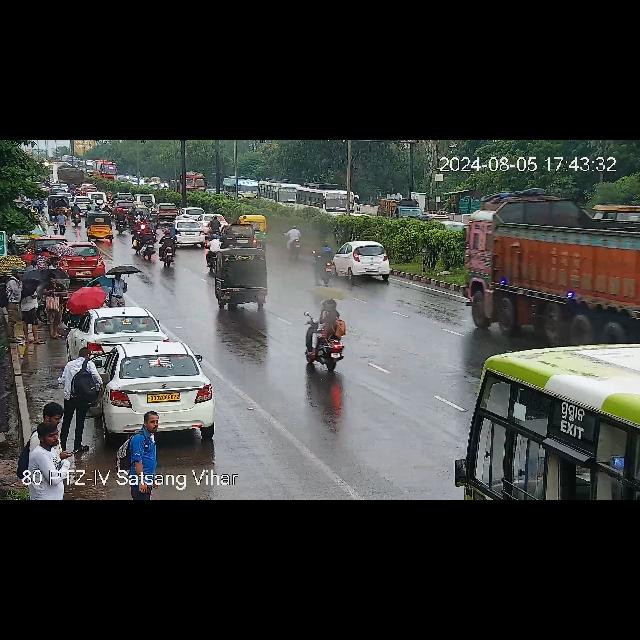bus: (454, 336, 640, 500), (291, 189, 357, 217), (256, 178, 302, 204), (219, 178, 261, 202)
car: (78, 342, 218, 436), (80, 306, 166, 349), (213, 248, 270, 312), (332, 241, 392, 281), (44, 237, 106, 275), (218, 222, 258, 248), (82, 210, 114, 240), (173, 220, 204, 244), (245, 214, 269, 242), (49, 193, 72, 220), (156, 204, 182, 222), (180, 206, 208, 218), (90, 192, 108, 208), (134, 195, 158, 207), (115, 192, 129, 204)
motorcycle: (302, 294, 342, 372), (156, 226, 178, 266), (313, 240, 331, 282), (128, 206, 154, 234), (137, 223, 153, 260), (288, 223, 302, 257), (206, 236, 218, 270), (70, 204, 84, 226), (113, 207, 127, 229), (208, 216, 222, 236)
person: (61, 348, 95, 454), (126, 406, 162, 470), (38, 404, 66, 470), (4, 268, 26, 346), (24, 275, 41, 345), (46, 271, 64, 335), (22, 246, 52, 268), (112, 274, 128, 304), (49, 258, 61, 270)
truck: (470, 190, 640, 320), (183, 170, 210, 190)
